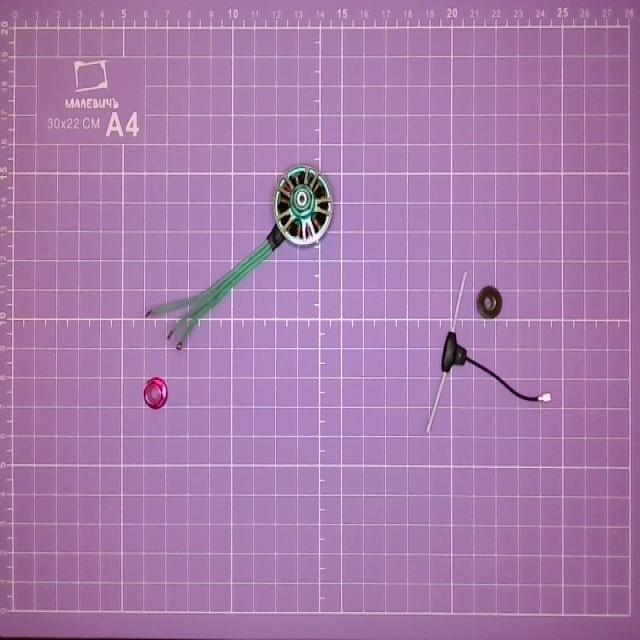antenna: (416, 270, 556, 431)
motor: (148, 164, 334, 350)
screw_M5: (474, 281, 505, 323), (138, 374, 172, 411)
